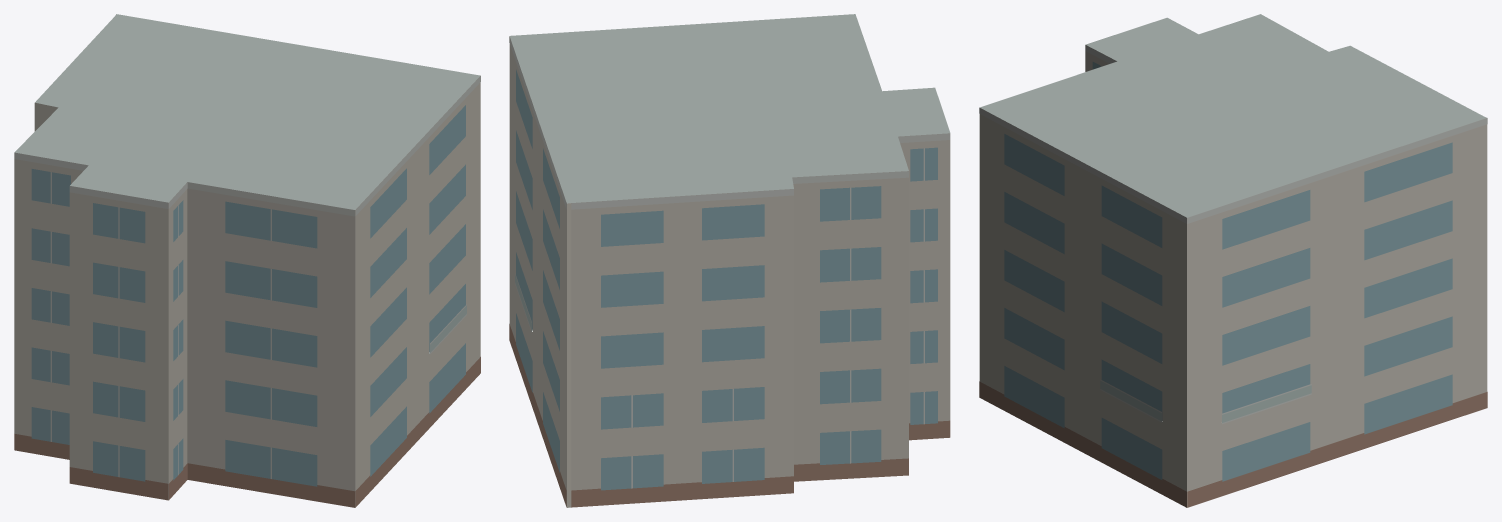
File: survey-upis-32614843.glb
The picture shows the model from 3 angles, left to right: view 1: azimuth 30°, elevation 25°; view 2: azimuth 150°, elevation 25°; view 3: azimuth 270°, elevation 25°; orthographic projection. The views are drawn at different scales.
Parts seen in each view (by area): view 1: survey-upis-32614843.tmp; view 2: survey-upis-32614843.tmp; view 3: survey-upis-32614843.tmp.
Part boxes in pixels (x1,y1,x2,y2): survey-upis-32614843.tmp: (14,14,480,507); survey-upis-32614843.tmp: (509,14,950,507); survey-upis-32614843.tmp: (979,14,1487,507).
Bounding box in the file's own units: 16.88 × 11.2 × 17.78.
